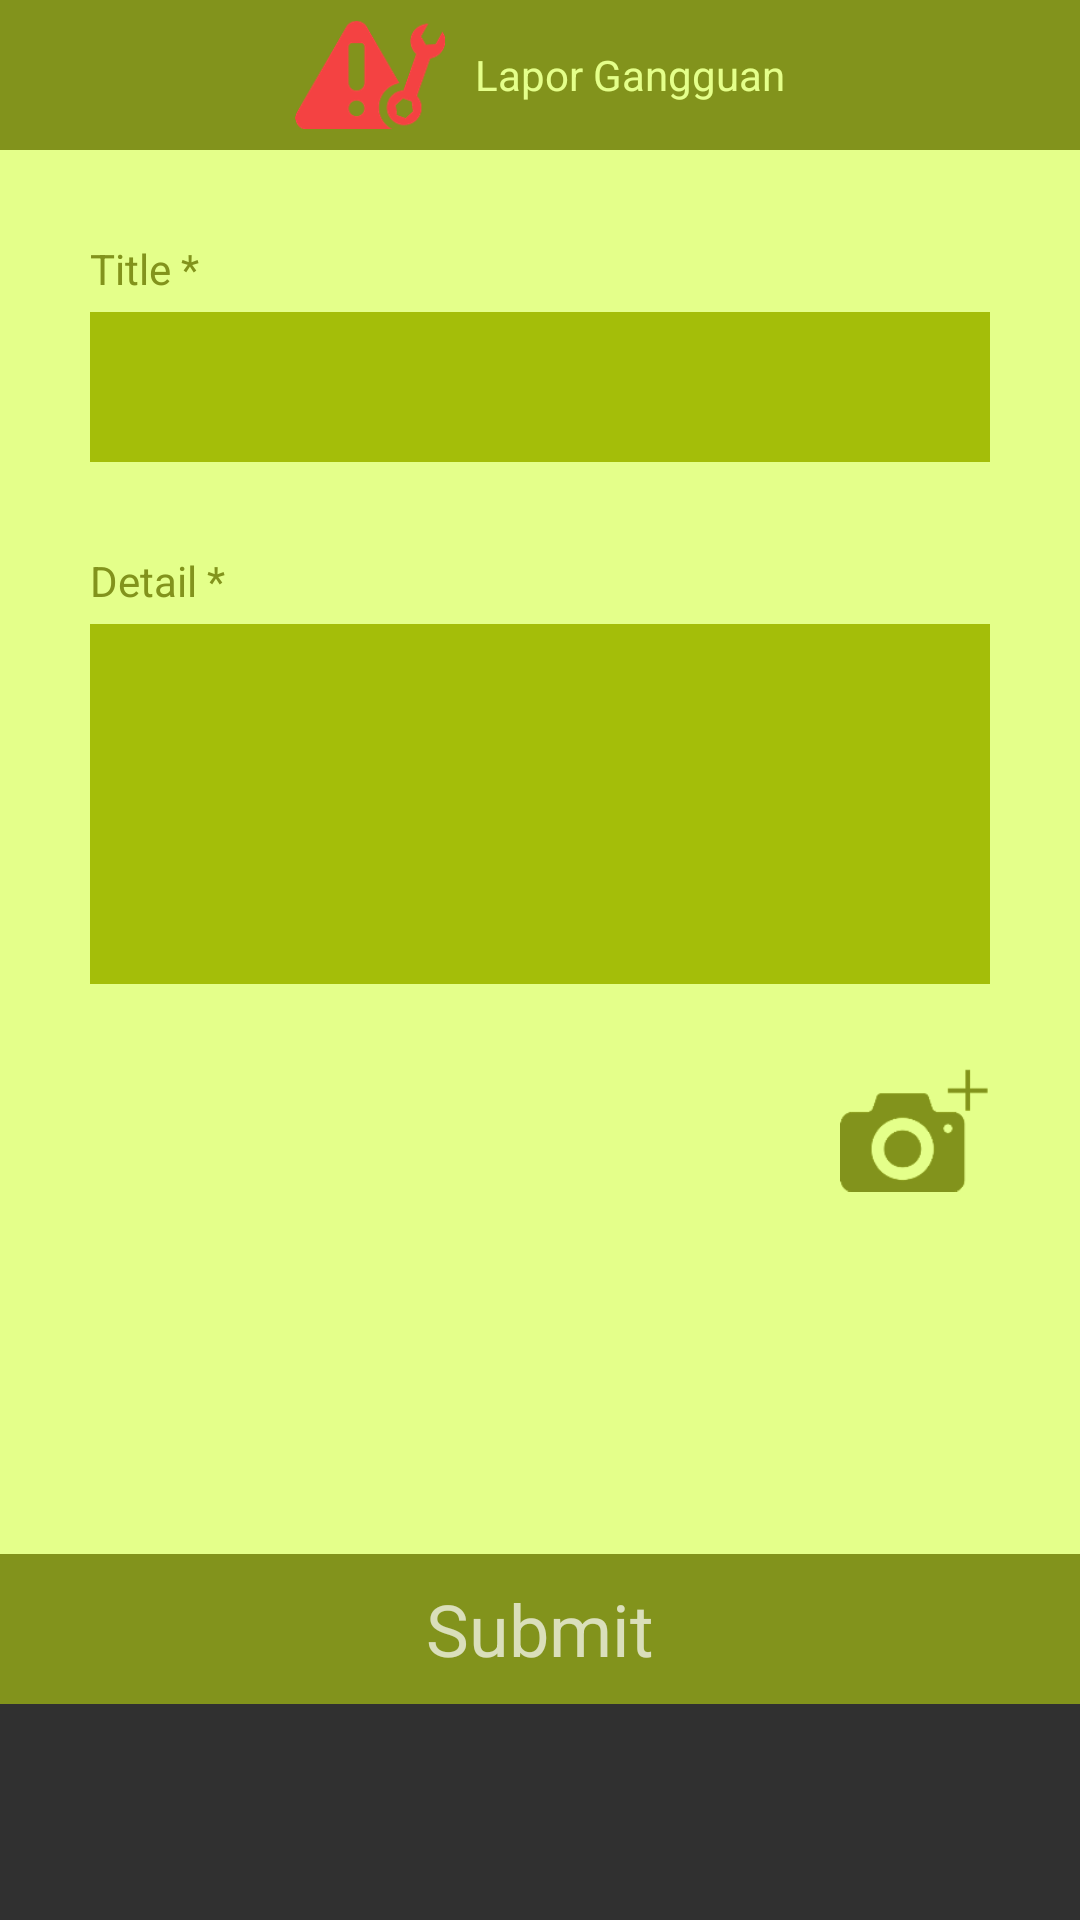

Icon bounding boxes for this 1080px×1920px phone screenshot, format (x1, y1, x2, y2):
kamera: (840, 1070, 988, 1192)
